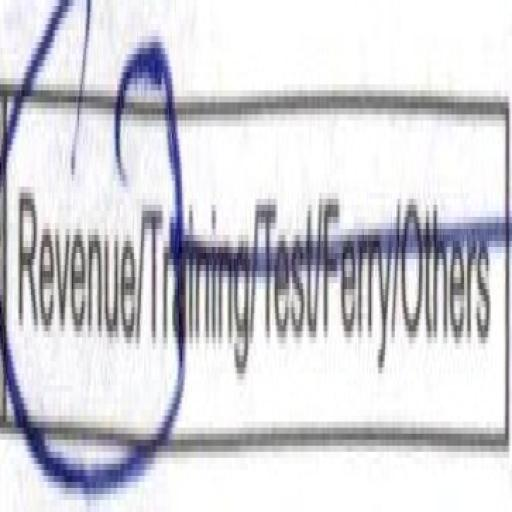check: (0, 0, 140, 506)
